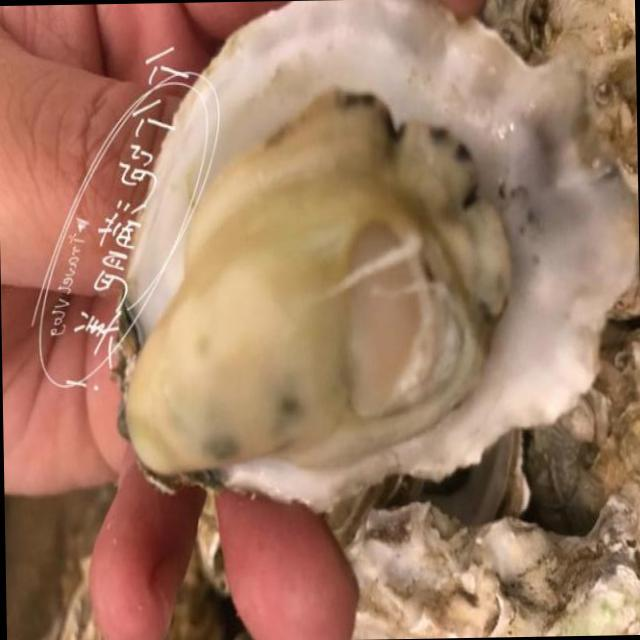Oyster-Open: (105, 0, 640, 511)
